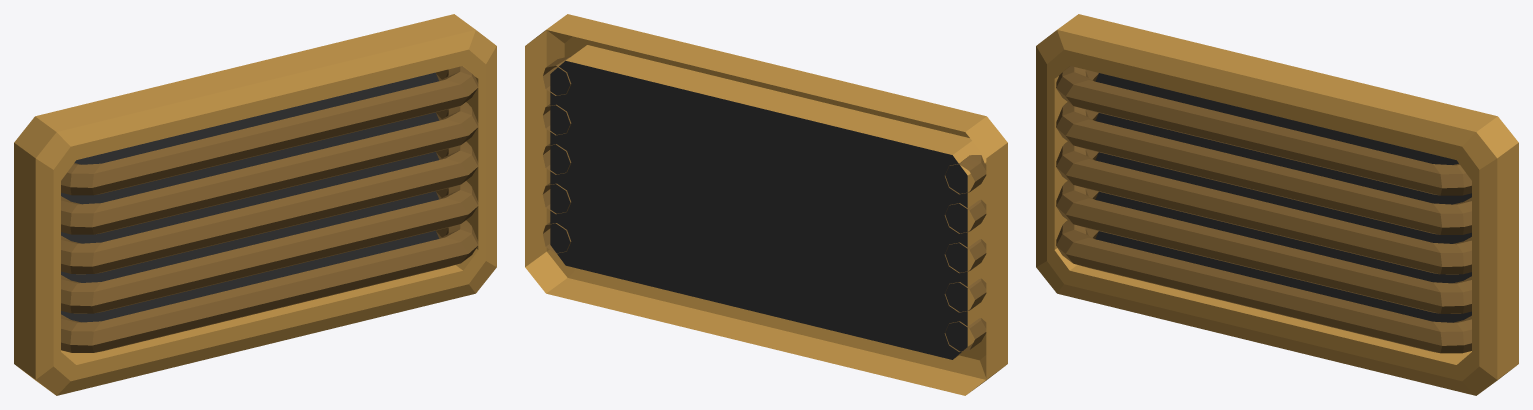
Rendered from Vent.obj.
The picture shows the model from 3 angles, left to right: view 1: azimuth 30°, elevation 25°; view 2: azimuth 150°, elevation 25°; view 3: azimuth 330°, elevation 25°; orthographic projection.
Visible parts, largest first — view 1: vent; view 2: vent; view 3: vent.
Boxes of the visible parts, x1=… form: vent: x1=14, y1=14, x2=496, y2=395; vent: x1=525, y1=14, x2=1007, y2=395; vent: x1=1036, y1=14, x2=1518, y2=395.
Bounding box in the file's own units: 0.6864 × 0.3753 × 0.0905.
